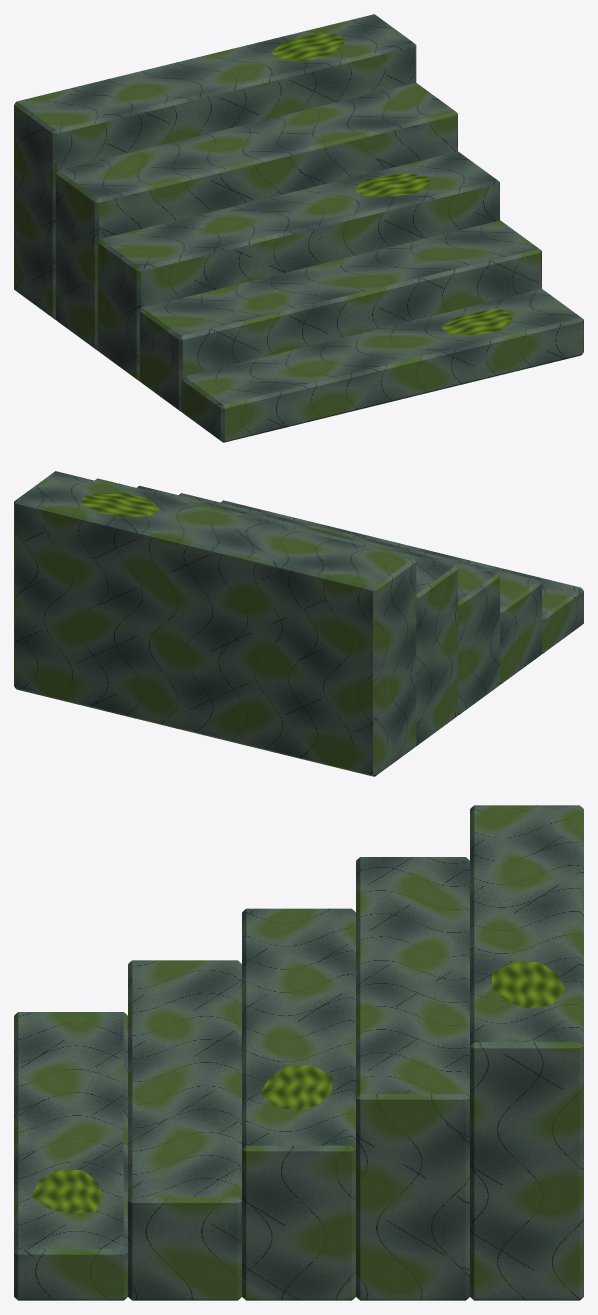
File: temple-stairs.glb
3 views of the same model, one above another, from view 1: azimuth 30°, elevation 25°; view 2: azimuth 150°, elevation 25°; view 3: azimuth 270°, elevation 25° (orthographic). The views are drawn at different scales.
Parts seen in each view (by area): view 1: temple-stairs_kit-stone, temple-stairs_kit-moss; view 2: temple-stairs_kit-stone, temple-stairs_kit-moss; view 3: temple-stairs_kit-stone, temple-stairs_kit-moss.
Part boxes in pixels (x1,y1,x2,y2): temple-stairs_kit-stone: [14, 14, 583, 442]; temple-stairs_kit-moss: [271, 33, 511, 334]; temple-stairs_kit-stone: [14, 471, 583, 776]; temple-stairs_kit-moss: [81, 493, 160, 516]; temple-stairs_kit-stone: [14, 805, 583, 1300]; temple-stairs_kit-moss: [31, 961, 565, 1213].
Size of the model in its own units: 2 by 1.01 by 2.
2 materials, 2 textured.
